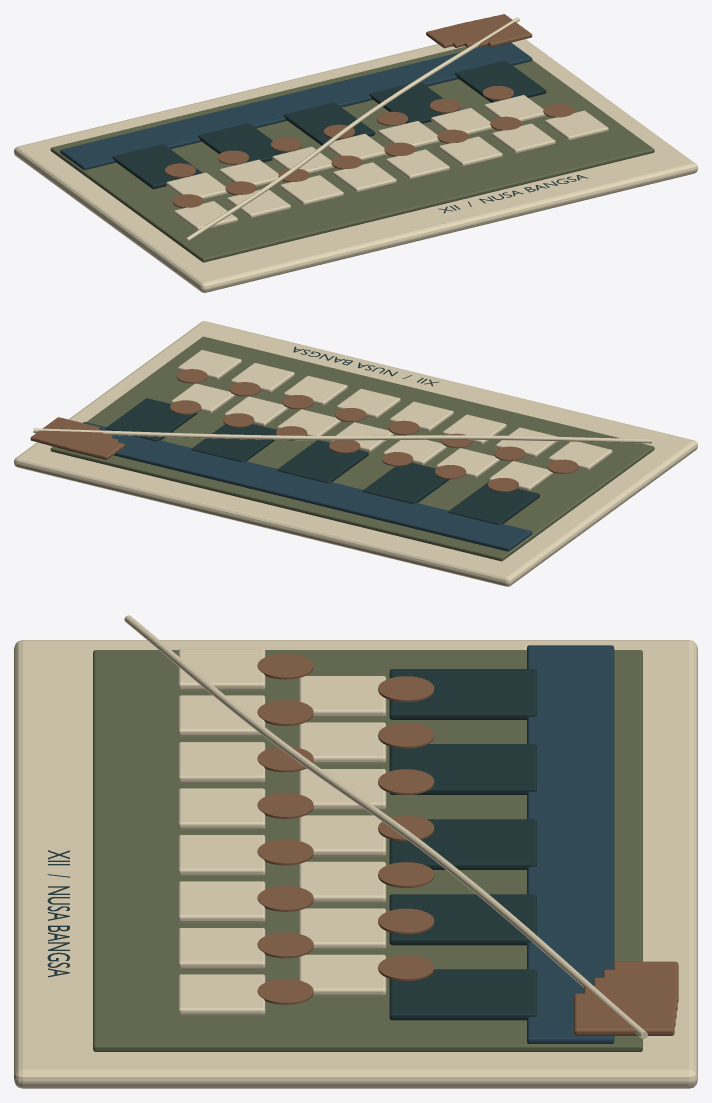
File: damaged_photo.glb
3 views of the same model, one above another, from view 1: azimuth 30°, elevation 25°; view 2: azimuth 150°, elevation 25°; view 3: azimuth 270°, elevation 25° (orthographic). The views are drawn at different scales.
Parts seen in each view (by area): view 1: damaged_photo; view 2: damaged_photo; view 3: damaged_photo.
Boxes of the visible parts, x1,y1,x2,y2 form: damaged_photo: (14,14,697,292); damaged_photo: (14,321,697,586); damaged_photo: (14,615,697,1088).
Bounding box in the file's own units: 0.15 × 0.00864 × 0.0994.
